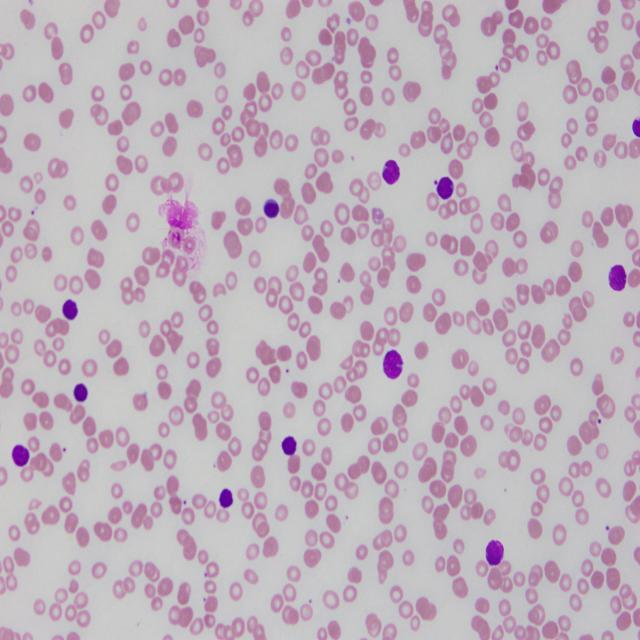cell: (382, 350, 402, 378), (609, 265, 626, 292), (382, 160, 400, 185), (486, 540, 504, 565), (436, 177, 454, 200), (12, 445, 30, 467), (62, 300, 78, 320), (219, 488, 234, 508), (264, 200, 279, 218), (281, 437, 296, 455), (74, 383, 88, 402)
